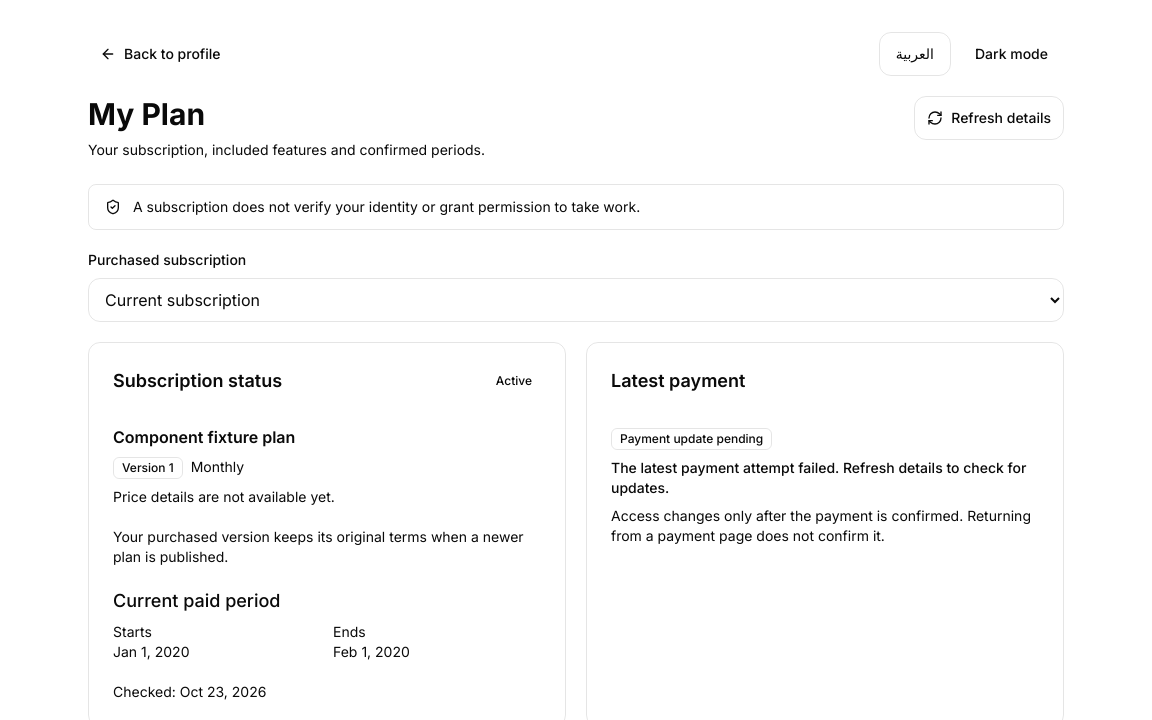
it: server-authoritative My Plan › separates a failed latest attempt from a pending payment update while the subscription is ACTIVE
Check: the text with test id "my-plan-status" reads "Active", box 496,373 -> 532,388
Check: the text with test id "my-plan-payment-status" reads "Payment update pending", box 620,431 -> 763,446
Click the button with aria-label "Switch to Arabic": (915, 54) 879,32 -> 951,76
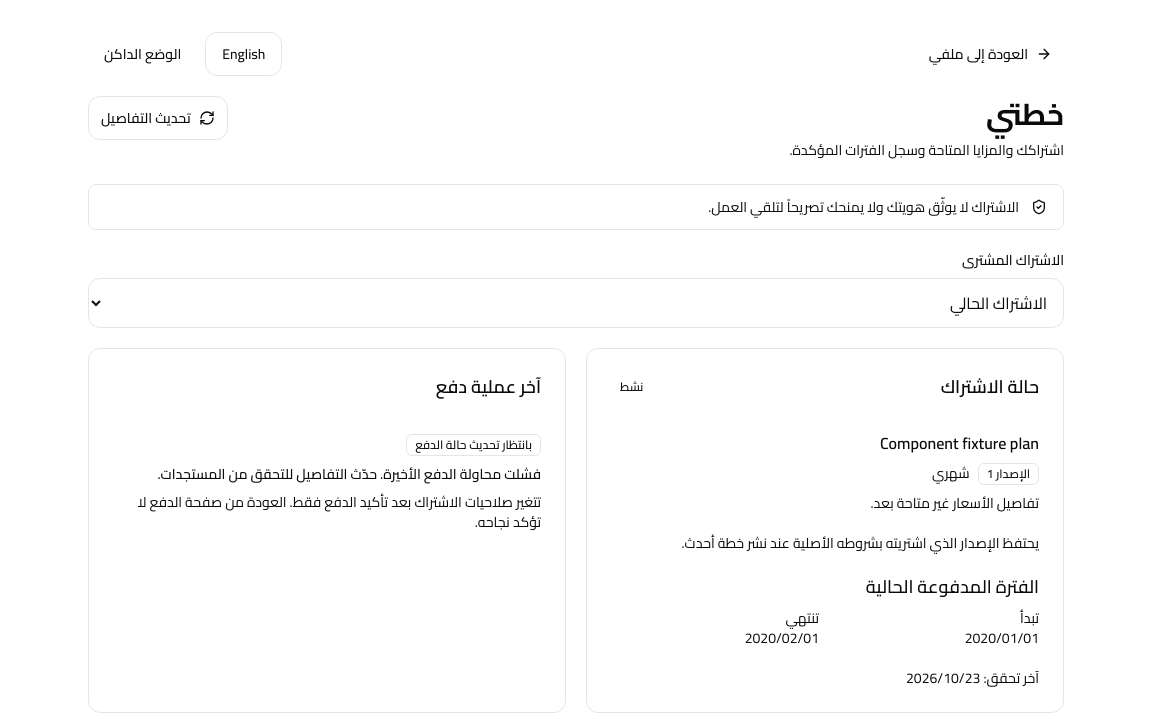
Check: the text with test id "my-plan-payment-status" reads "بانتظار تحديث حالة الدفع", box 415,433 -> 532,456
